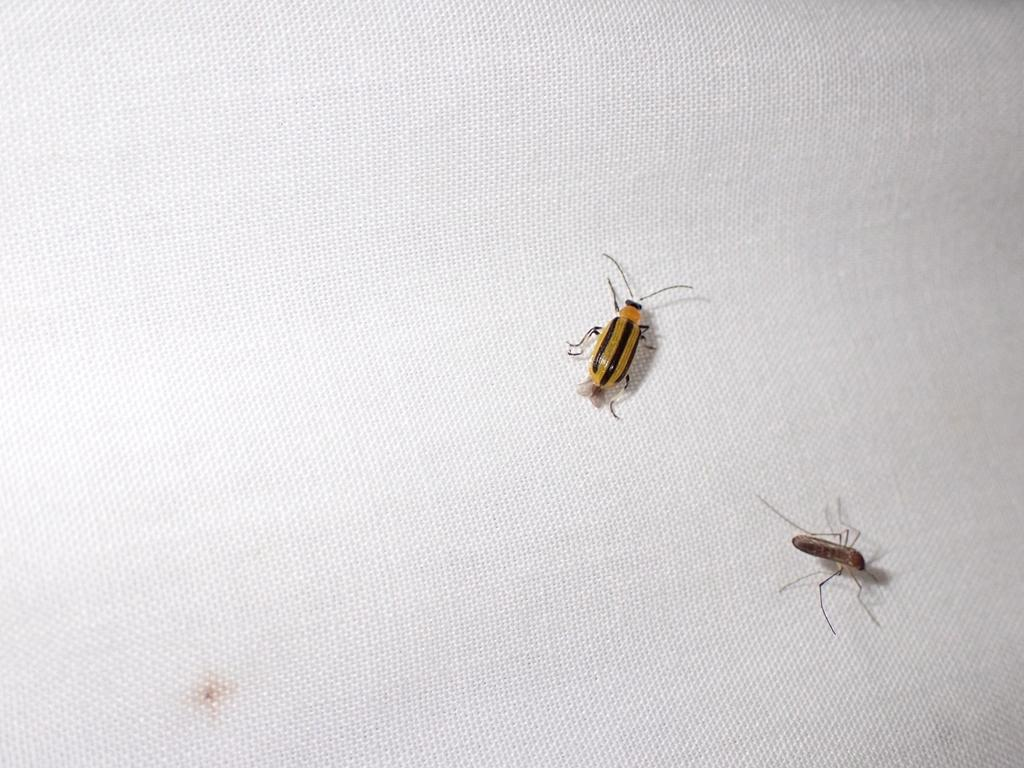potato_beetle: (550, 218, 708, 469)
